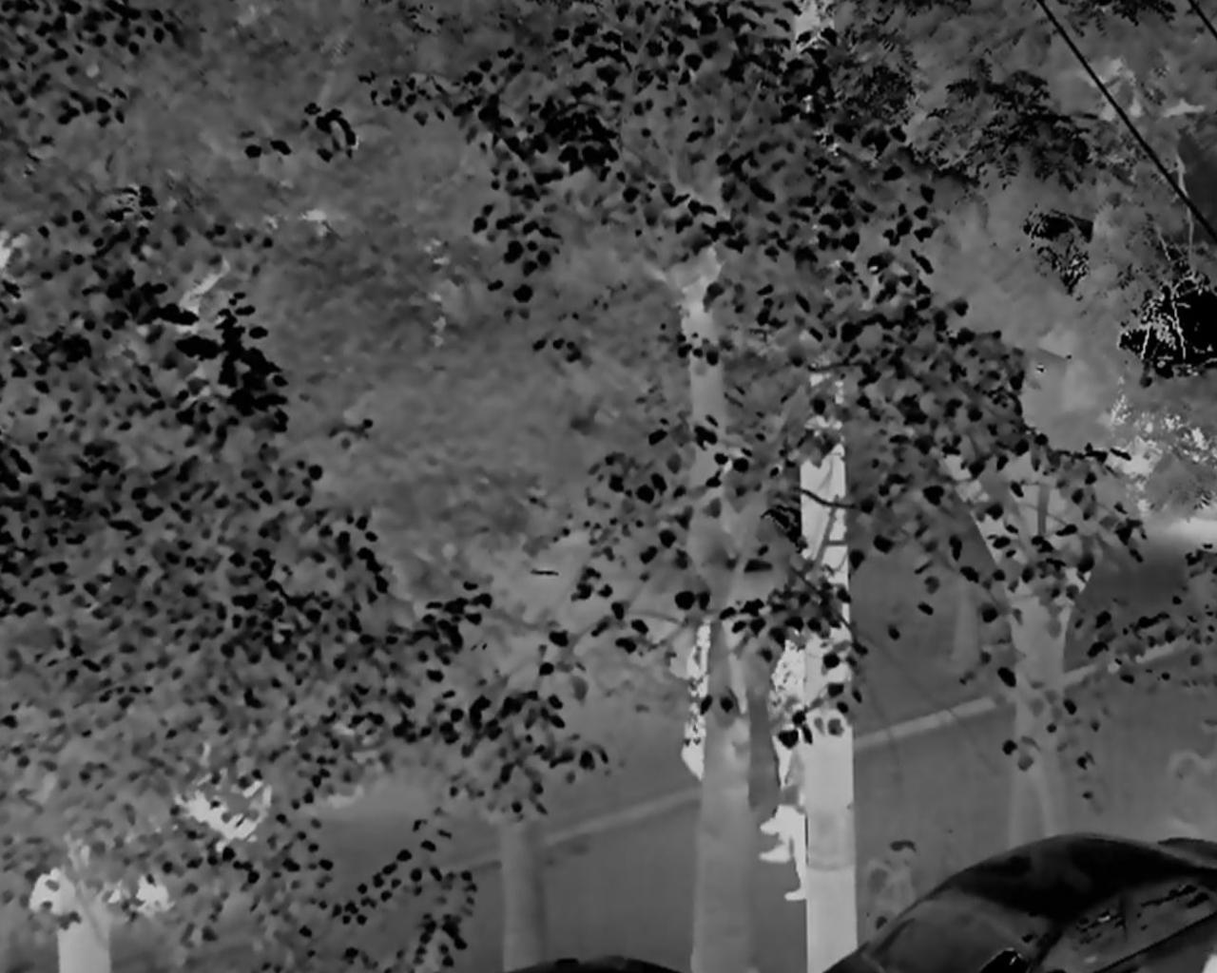person: (764, 637, 807, 906), (687, 615, 707, 777)
